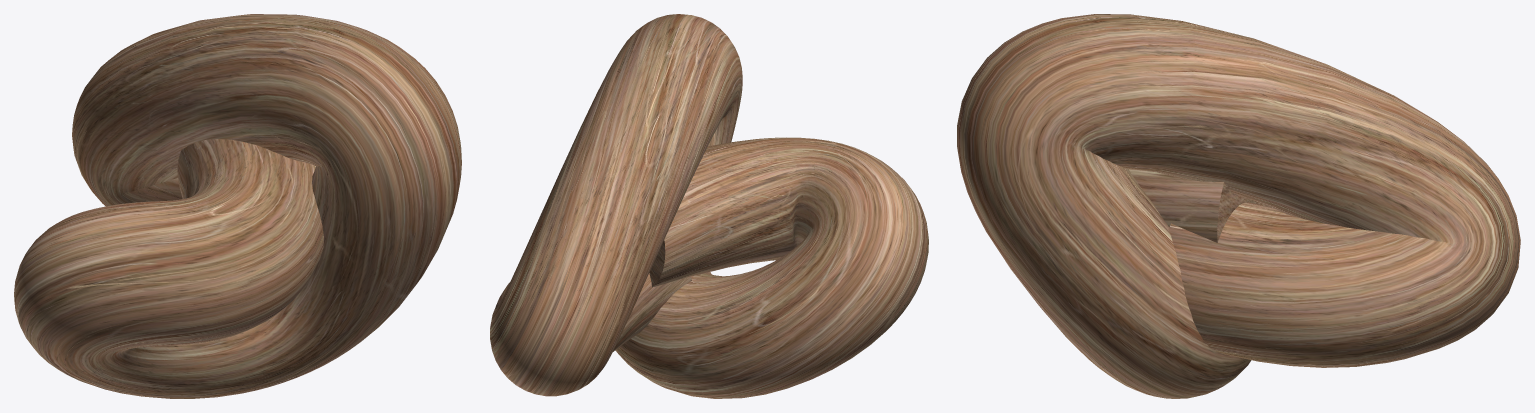
Rendered from knot.fbx.
3 views of the same model, side by side, from view 1: azimuth 30°, elevation 25°; view 2: azimuth 150°, elevation 25°; view 3: azimuth 270°, elevation 25° (orthographic). The views are drawn at different scales.
Parts seen in each view (by area): view 1: Sweep; view 2: Sweep; view 3: Sweep.
Part boxes in pixels (<box>): Sweep: <box>14,14,461,398</box>; Sweep: <box>490,14,928,398</box>; Sweep: <box>957,14,1520,398</box>.
Bounding box in the file's own units: 54.17 × 49.76 × 64.44.
1 material, 1 textured.
